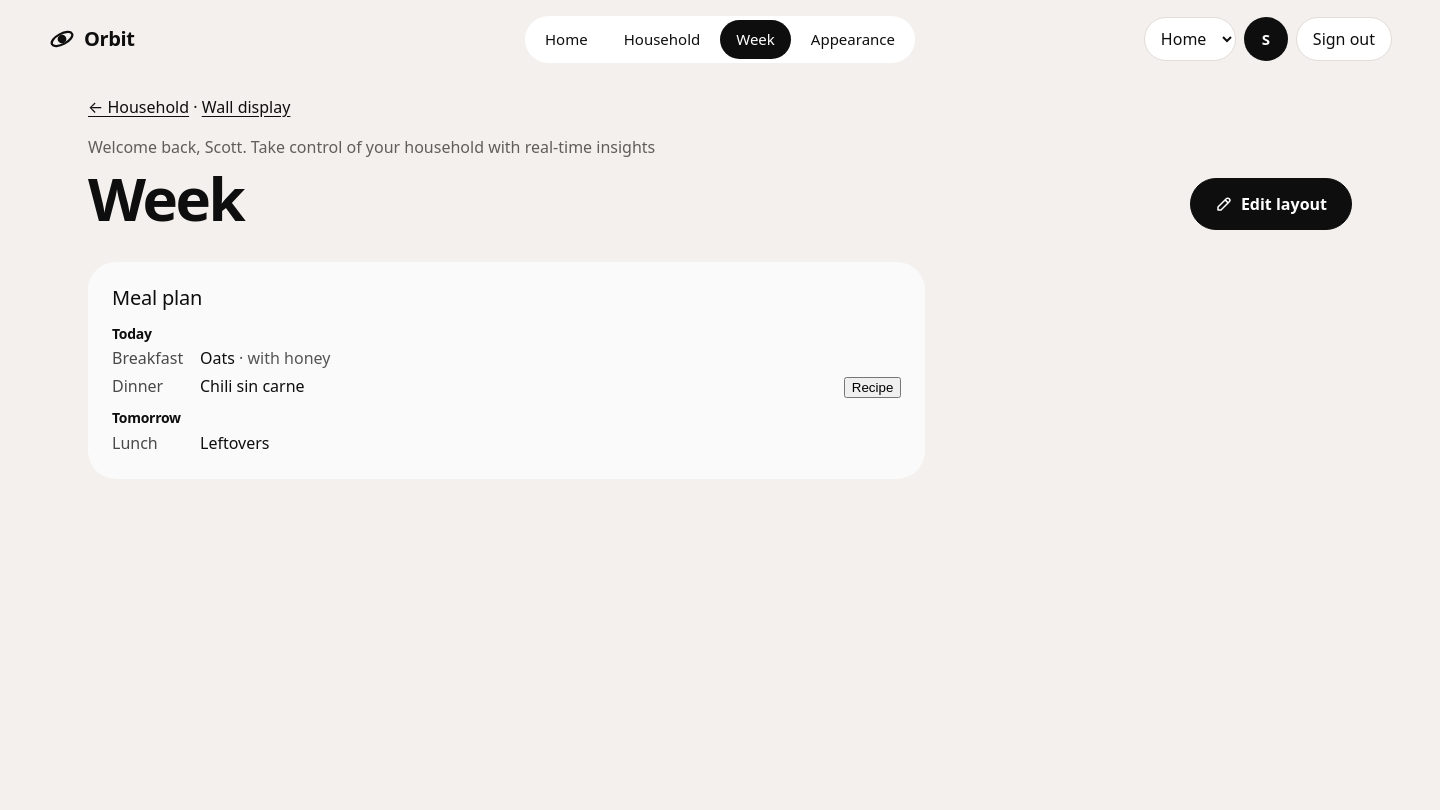
Test: meal plan widget › opens the recipe with its ingredients and steps on request
The image size is (1440, 810).
Click the button with aria-label "Show the recipe for Chili sin carne".
click(873, 388)  # box x1=844 y1=377 x2=901 y2=398
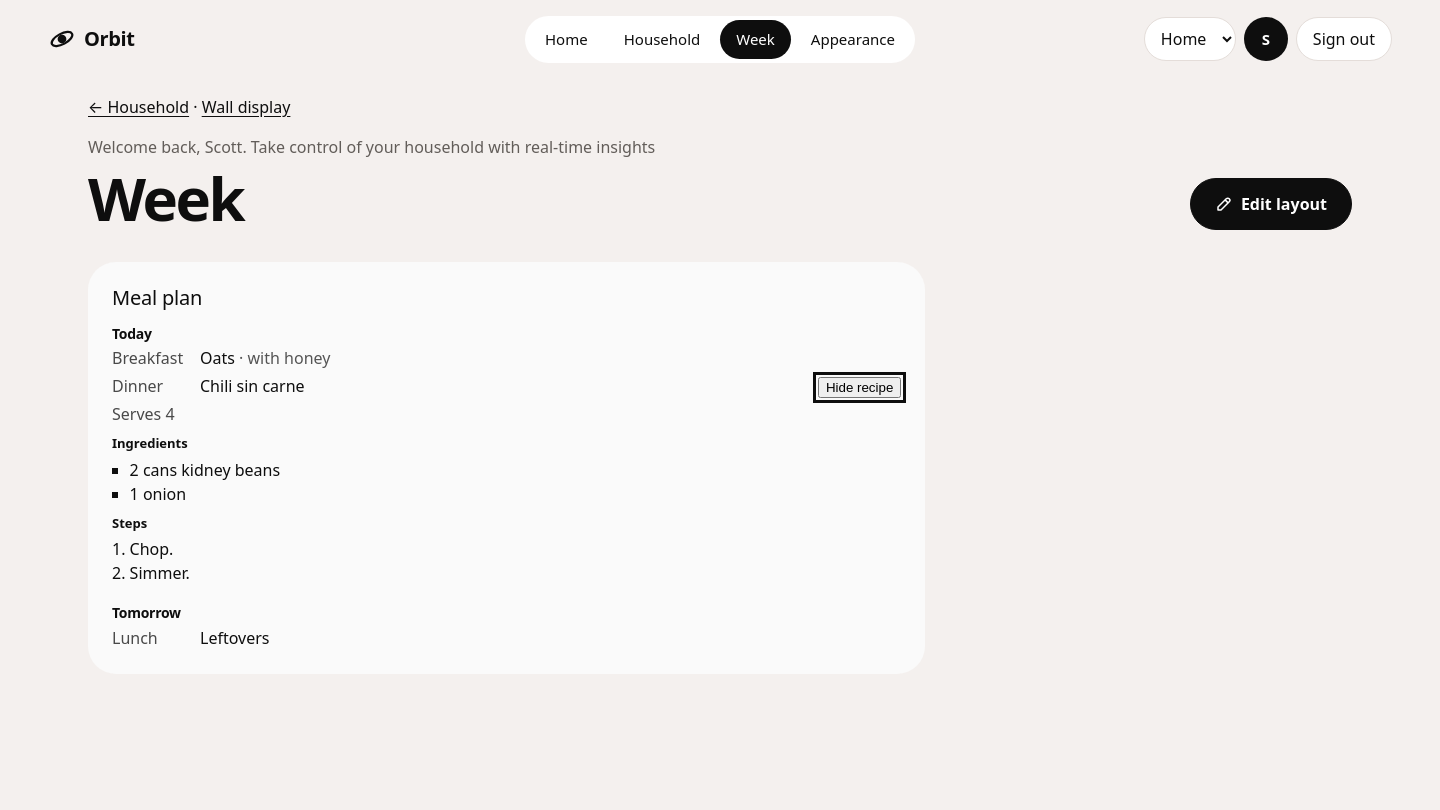
Check: the list item "2 cans kidney beans" is shown, box x1=130 y1=459 x2=280 y2=481
Check: the element "Steps" is shown, box x1=112 y1=514 x2=190 y2=584
Check: the text "Serves 4" is shown, box x1=112 y1=403 x2=175 y2=425
Click the button with aria-label "Hide the recipe for Chili sin carne".
click(860, 388)  # box x1=818 y1=377 x2=901 y2=398
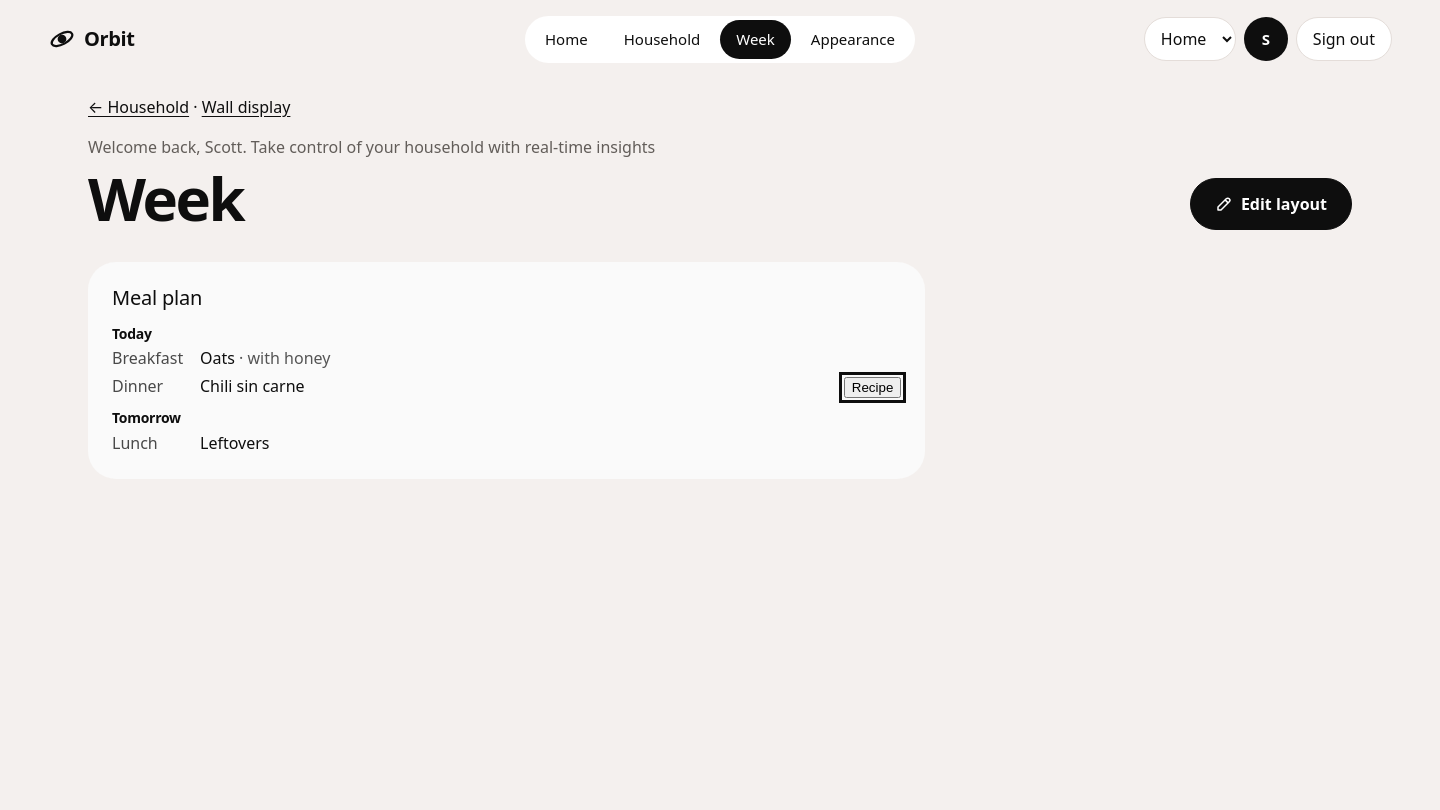
Check: the heading "Ingredients" is gone
